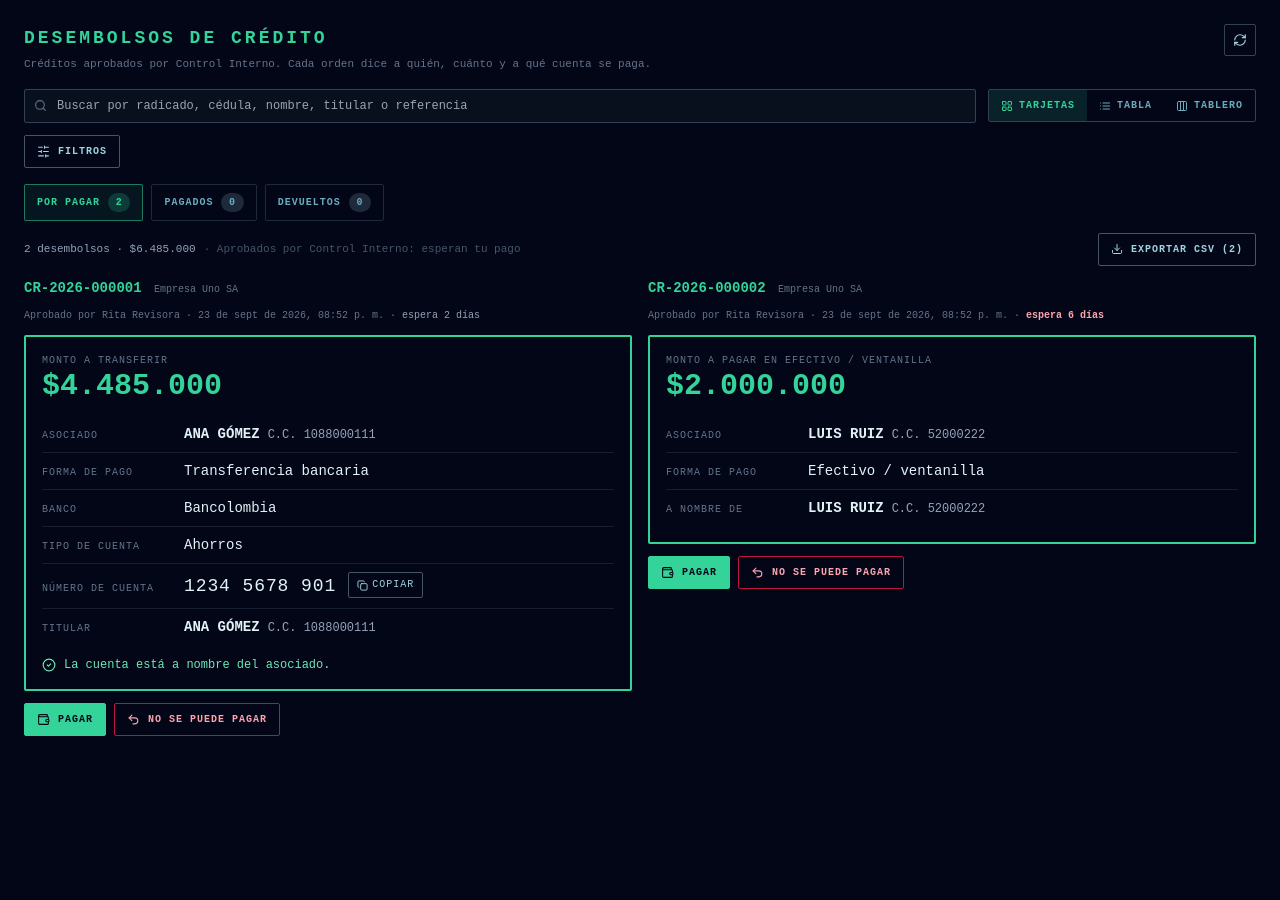
Test: Tesorería — vistas › la vista de origen son las tarjetas y la elegida se recuerda
Click the button "TABLA".
click(1126, 106)  # box [1087, 90, 1164, 121]
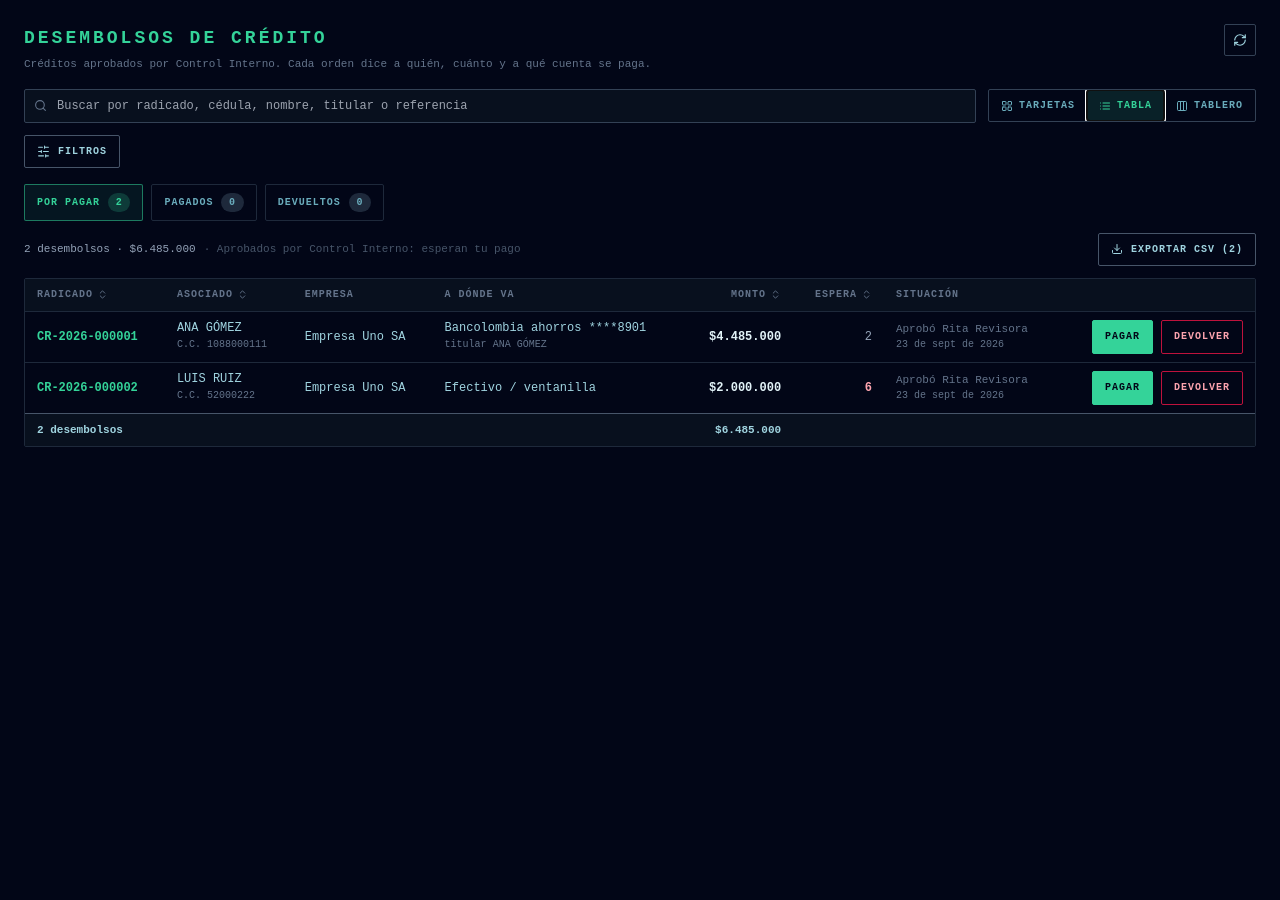
expect the table is shown: met, box [25, 278, 1255, 446]
